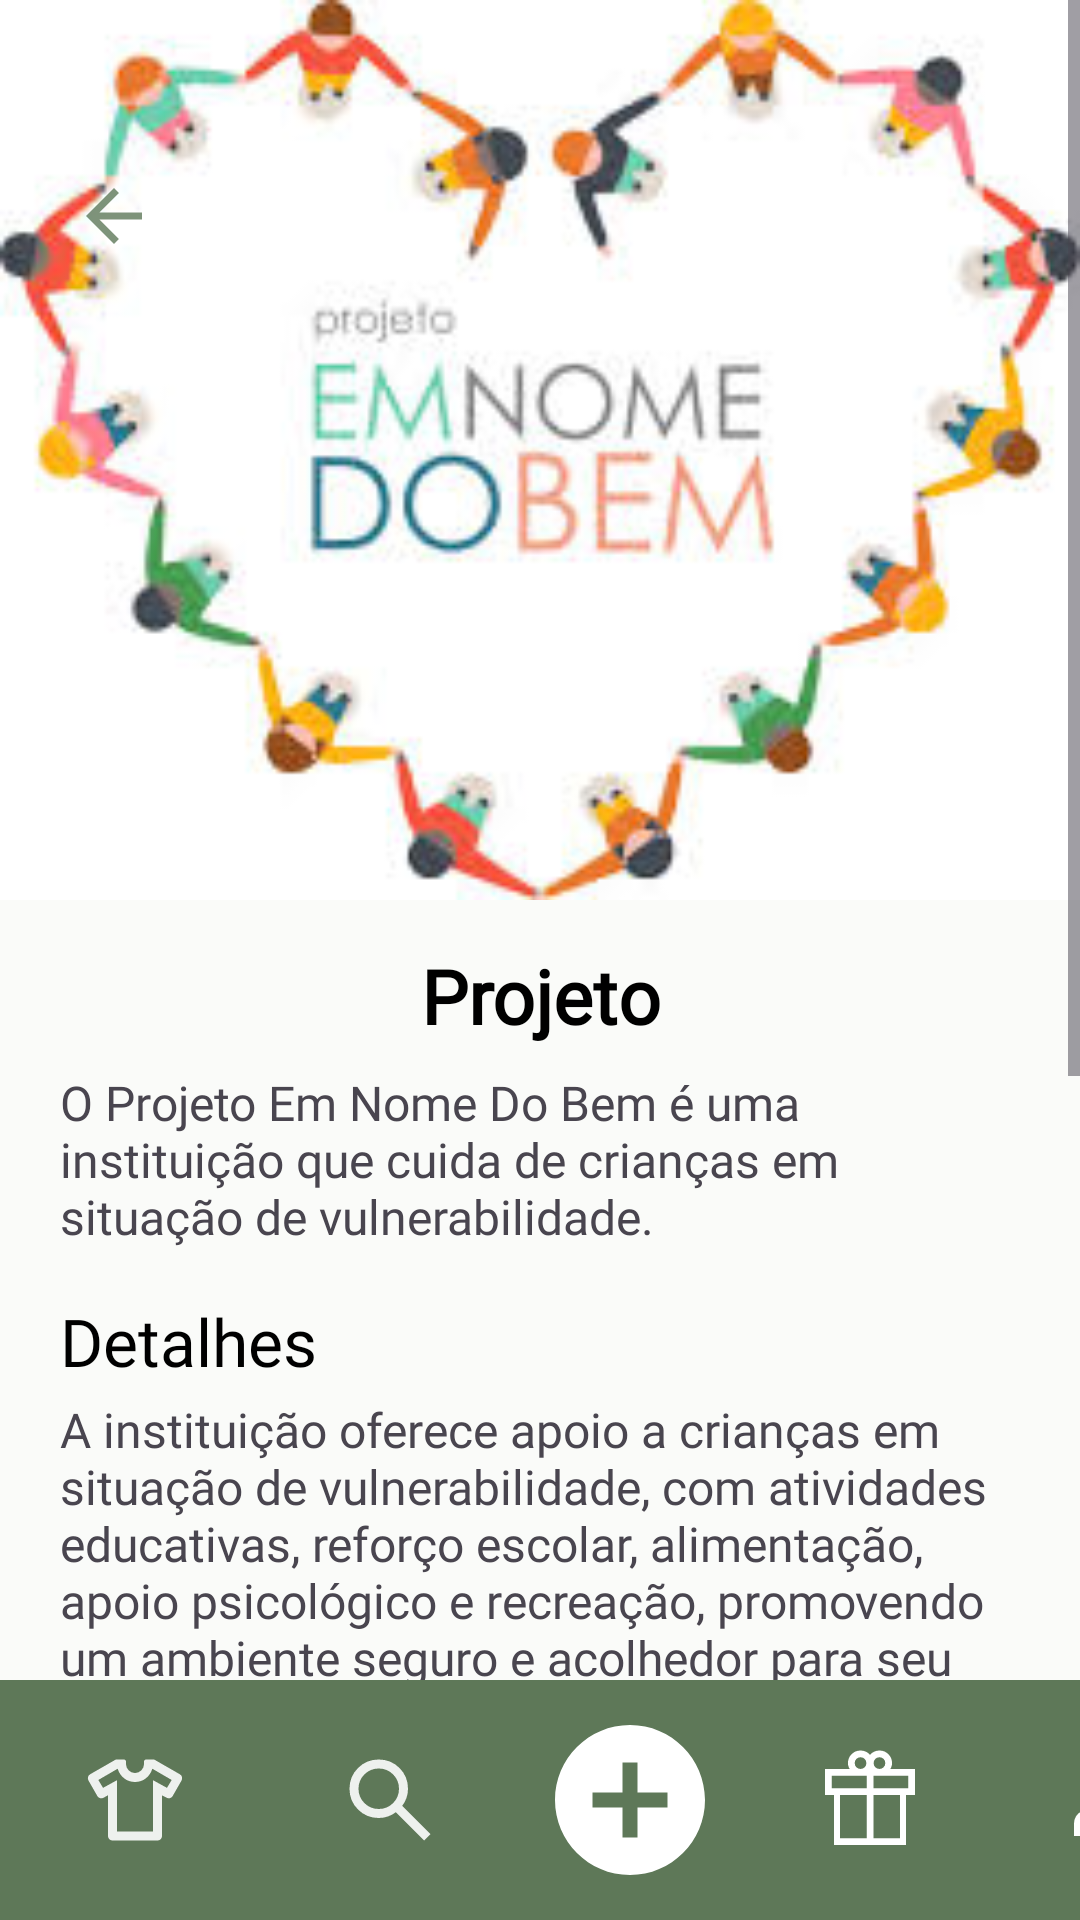

Screen size 1080px×1920px. Icon name, then its box in pixels as {"left": x1, "top": y1, "right": x2, "bottom": y2}:
add circle: {"left": 555, "top": 1725, "right": 705, "bottom": 1875}
iconedoacao: {"left": 825, "top": 1750, "right": 915, "bottom": 1845}
search branco: {"left": 349, "top": 1759, "right": 431, "bottom": 1841}
